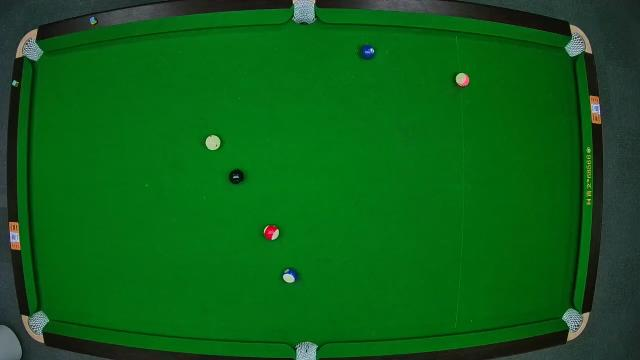bag1: (22, 39, 42, 61)
bag2: (292, 0, 318, 24)
bag3: (564, 33, 588, 55)
bag4: (27, 310, 48, 334)
bag5: (293, 340, 319, 360)
bag6: (562, 308, 582, 330)
ball0: (206, 134, 220, 150)
ball10: (282, 266, 298, 284)
ball11: (264, 222, 280, 242)
ball12: (454, 72, 470, 88)
ball2: (360, 44, 376, 60)
ball8: (228, 170, 244, 184)
